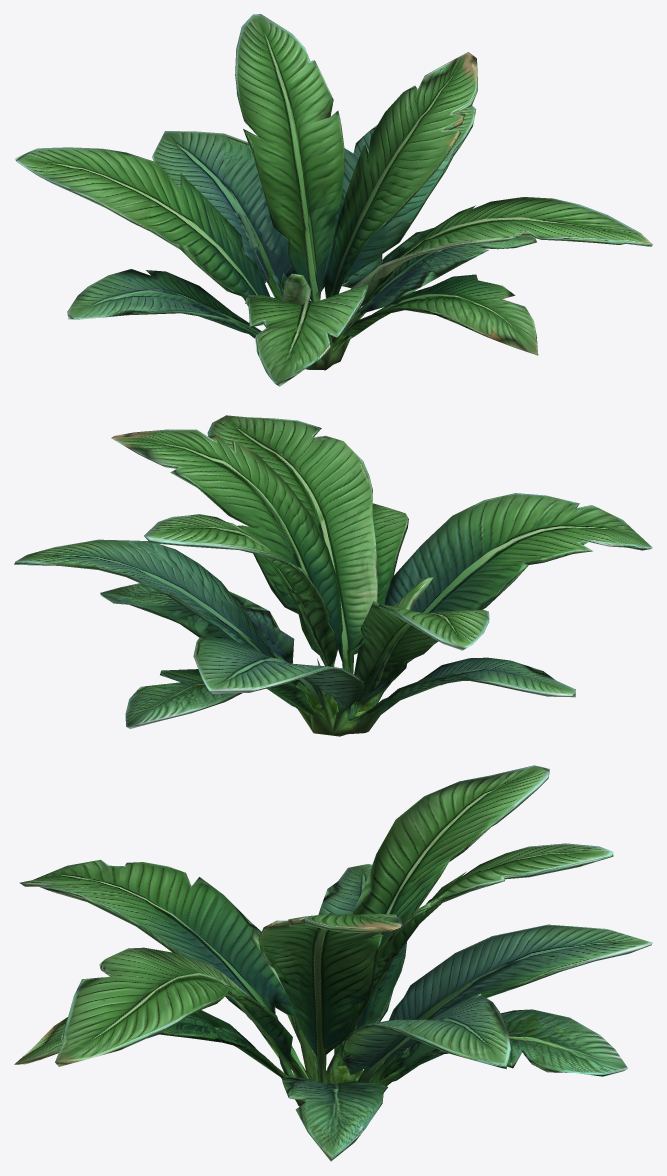
3 renders of one model, top to bottom at view 1: azimuth 30°, elevation 25°; view 2: azimuth 150°, elevation 25°; view 3: azimuth 270°, elevation 25°, orthographic. The views are drawn at different scales.
Visible parts, largest first — view 1: Mesh_0; view 2: Mesh_0; view 3: Mesh_0.
Part boxes in pixels (<box>): Mesh_0: <box>14,14,652,386</box>; Mesh_0: <box>14,415,652,736</box>; Mesh_0: <box>14,765,652,1161</box>.
Size of the model in its own units: 1.91 by 0.9891 by 1.93.
1 material, 1 textured.
